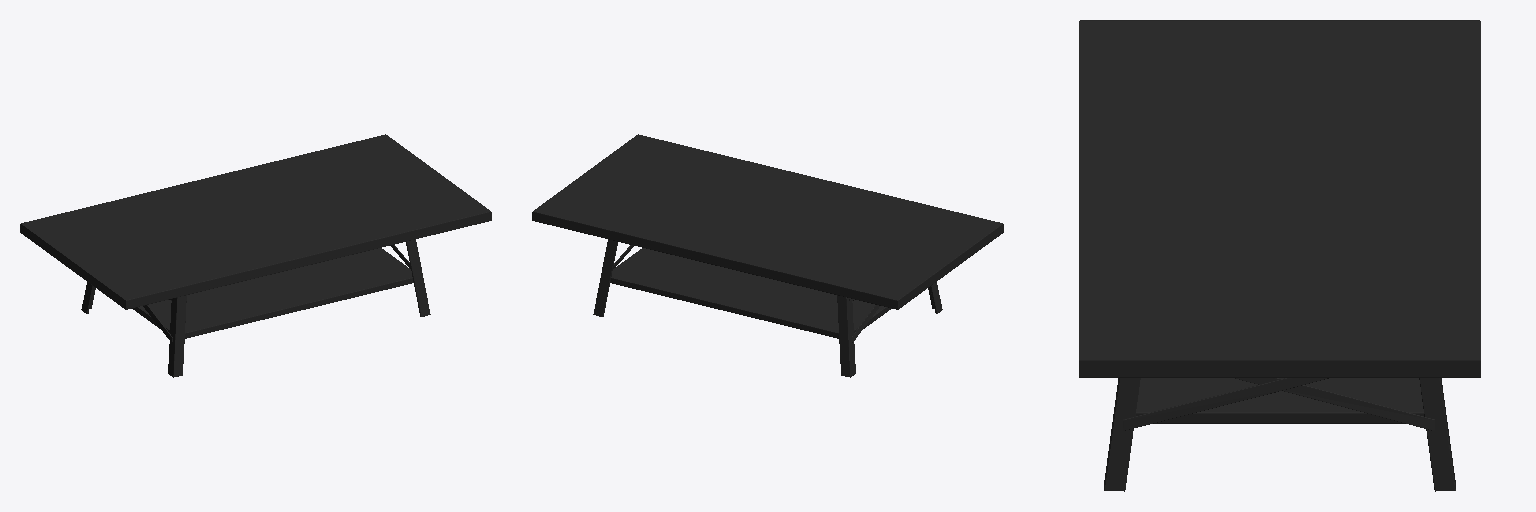
URDF robot description (table.urdf):
<?xml version="0.0" ?>
<robot name="table.urdf">
  <link name="baseLink">
    <contact>
      <lateral_friction value="1.0"/>
    </contact>

    <inertial>
      <origin rpy="0 0 0" xyz="0 0 0"/>
       <mass value=".0"/>
       <inertia ixx="1" ixy="0" ixz="0" iyy="1" iyz="0" izz="1"/>
    </inertial>

    <visual>
      <origin rpy="1.57075 0 0" xyz="0 1 0"/>
      <geometry>
        <mesh filename="CoffeeTable.obj" scale="1 1 1"/>
      </geometry>
       <material name="gray">
        <color rgba="0.2 0.2 0.2 1"/>
      </material>
    </visual>

    <collision concave="yes">
      <origin rpy="1.57075 0 0" xyz="0 1 0"/>
      <geometry>
	 	    <mesh filename="CoffeeTable.obj" scale="1 1 1"/>
      </geometry>
    </collision>
  </link>
</robot>

--- Facts derived from the render (not from the file) ---
Views: 3 orthographic renders of the robot side by side, from view 1: azimuth 30°, elevation 25°; view 2: azimuth 150°, elevation 25°; view 3: azimuth 270°, elevation 25°.
Robot: table.urdf — 1 links, 0 joints (none); root link baseLink; default pose: every joint at zero.
Links seen in each view (by area): view 1: baseLink; view 2: baseLink; view 3: baseLink.
Link boxes in pixels (bbox=[...]): baseLink: bbox=[20, 134, 491, 377]; baseLink: bbox=[532, 134, 1003, 377]; baseLink: bbox=[1079, 20, 1480, 491].
Bounding box of the posed robot: 2 × 1 × 0.4999 m (x, y, z).
Meshes: 1 distinct files referenced, 1 mesh visuals loaded (1 OBJ).